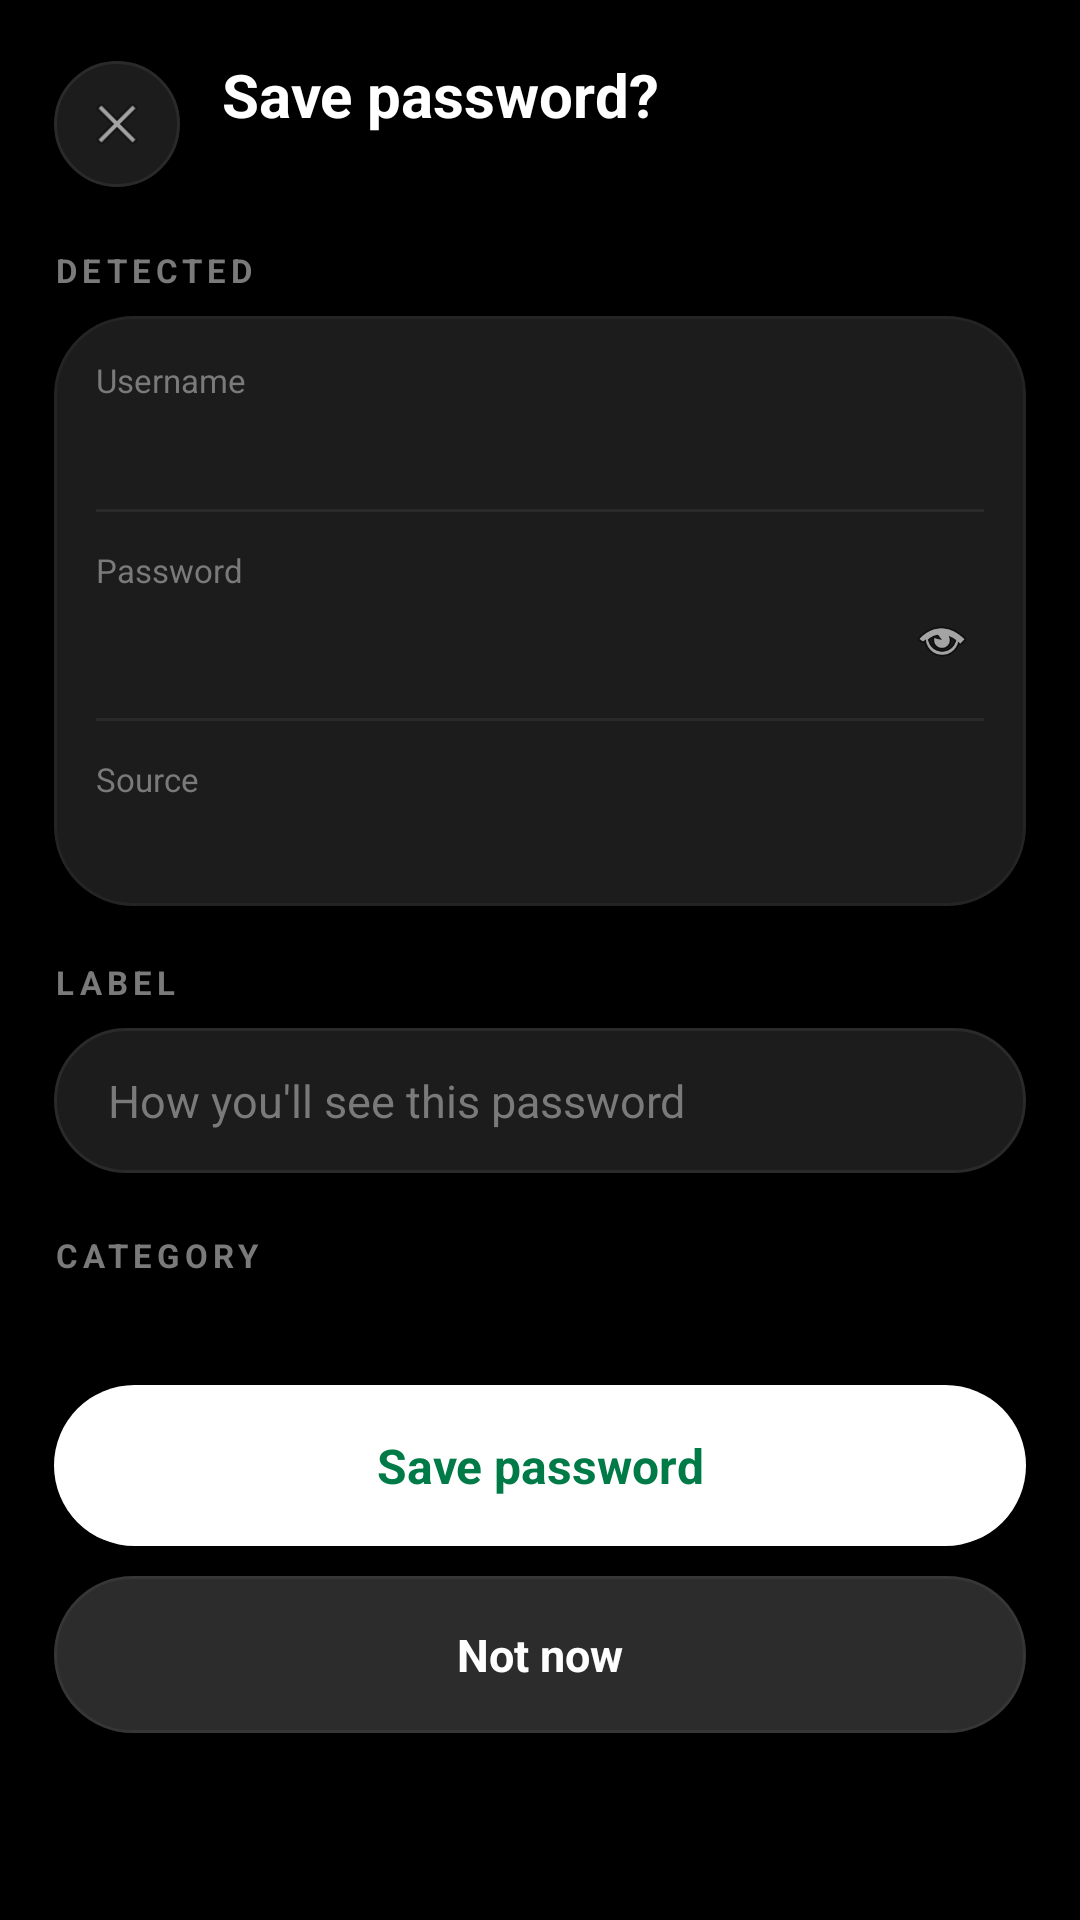

Point at icon controls on the screen. Image size 1080 × 1920, points as [x,y].
Close: [117,124]
